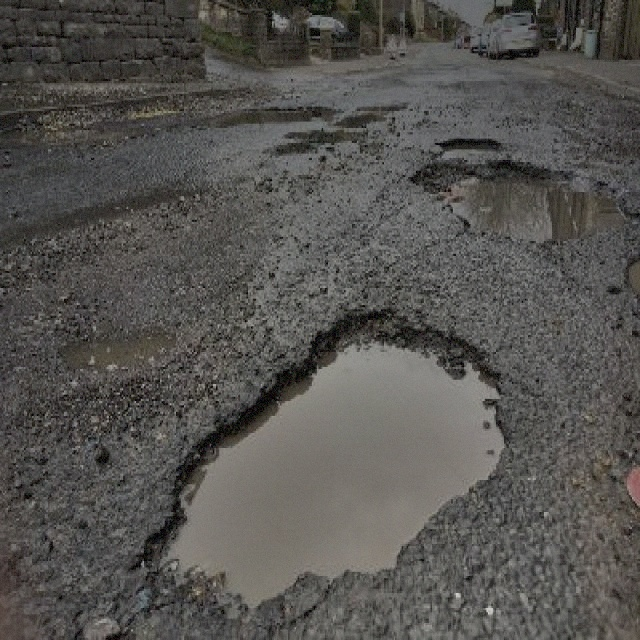pothole: (136, 299, 512, 614), (405, 156, 629, 241), (52, 322, 178, 378), (432, 132, 502, 156), (624, 254, 638, 296)
